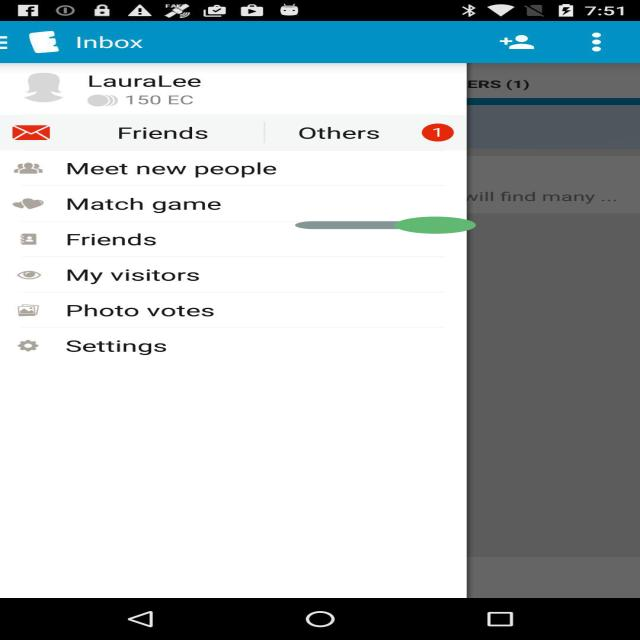social proof: (295, 206, 476, 244)
